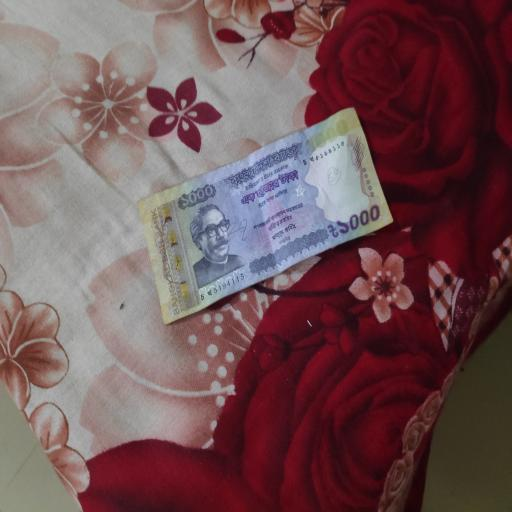1000taka: (135, 104, 396, 327)
